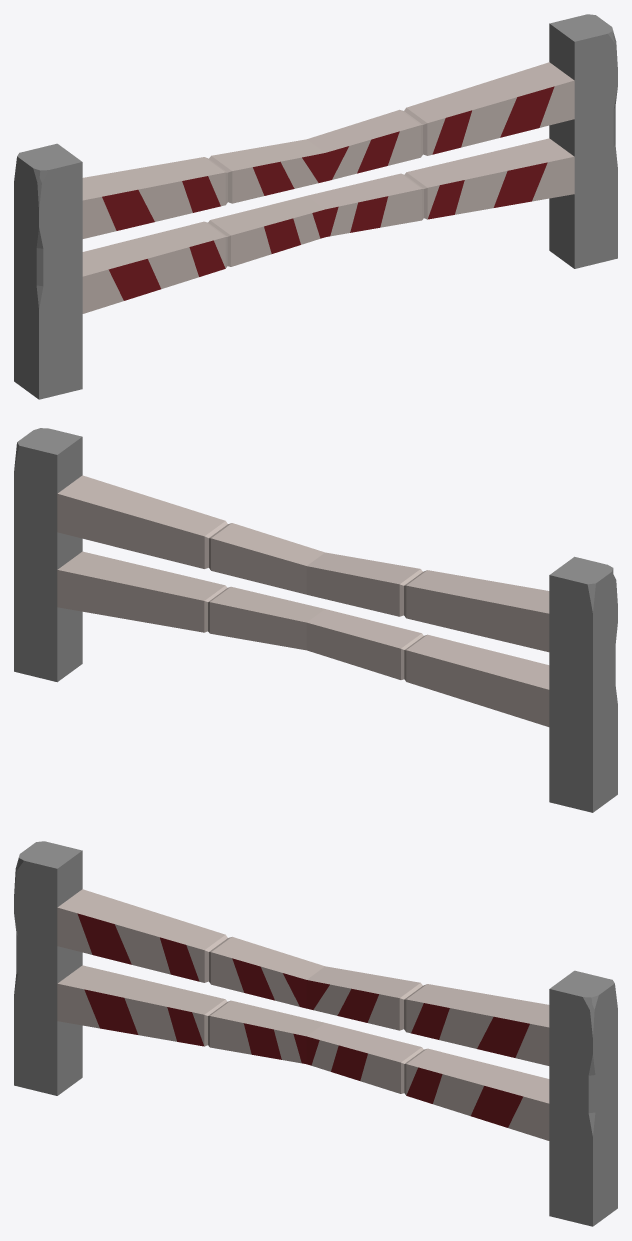
Rendered from Engel.fbx.
3 renders of one model, top to bottom at view 1: azimuth 30°, elevation 25°; view 2: azimuth 150°, elevation 25°; view 3: azimuth 330°, elevation 25°, orthographic.
Visible parts, largest first — view 1: Engel; view 2: Engel; view 3: Engel.
Boxes of the visible parts, box(x1,y1,x2,y2) form: Engel: box(14, 14, 617, 399); Engel: box(14, 428, 617, 812); Engel: box(14, 841, 617, 1226).
Size of the model in its own units: 1333 by 500 by 100.
